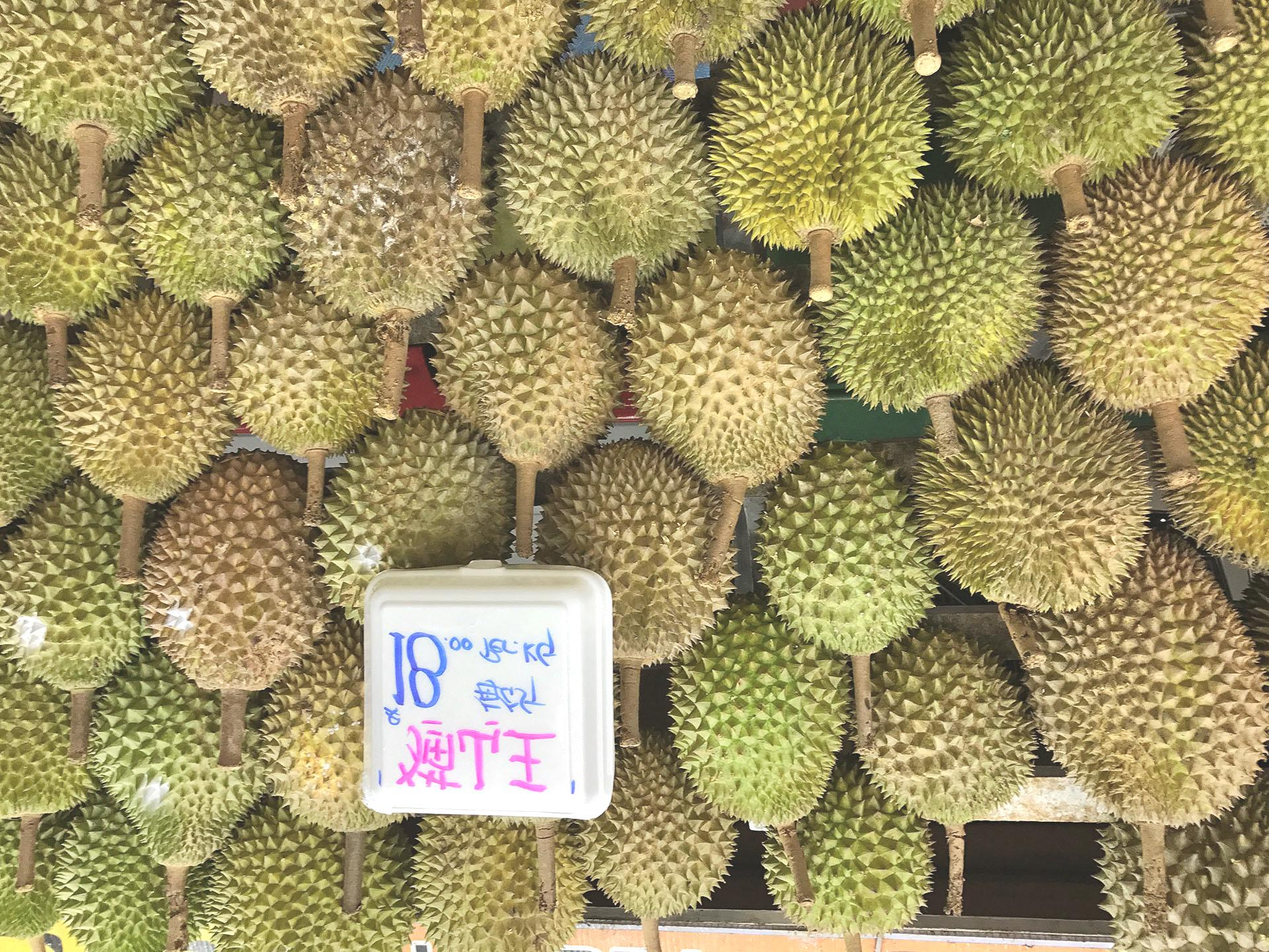sau_rieng: (915, 370, 1152, 615), (499, 45, 711, 286), (618, 239, 819, 487), (754, 447, 944, 656), (856, 627, 1039, 833), (52, 298, 231, 502)
